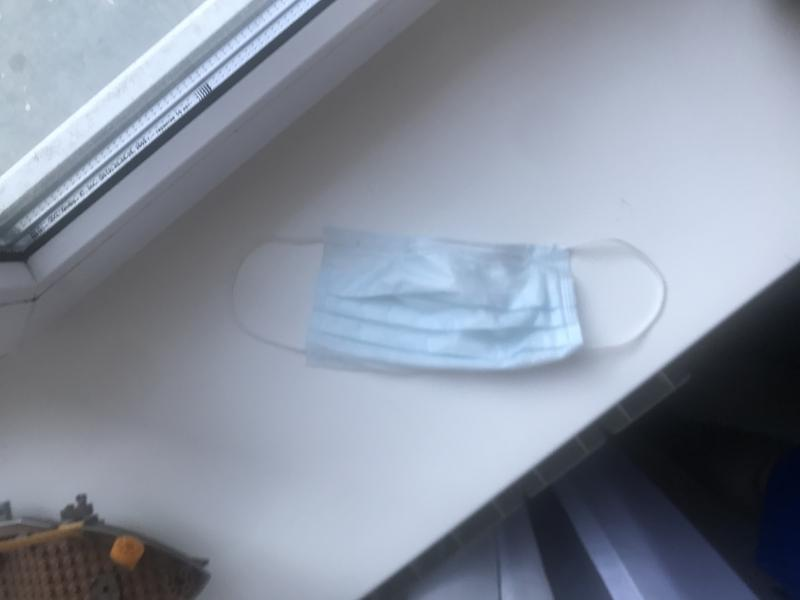medical_mask: (228, 228, 668, 372)
